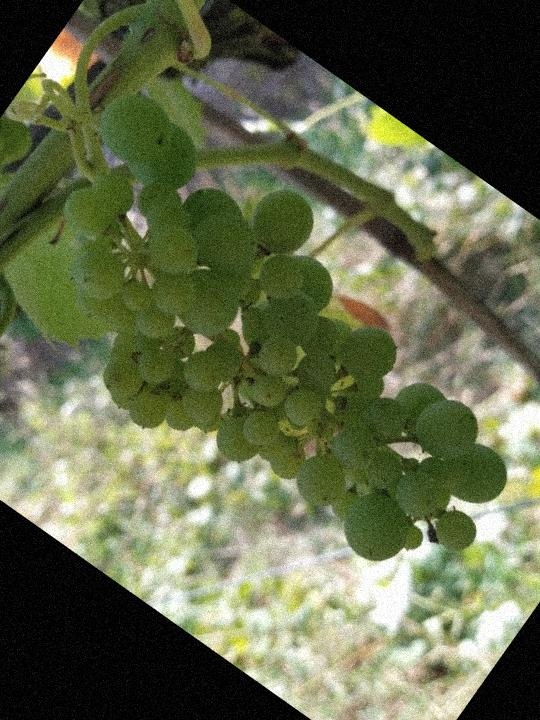grape: (0, 71, 540, 629)
